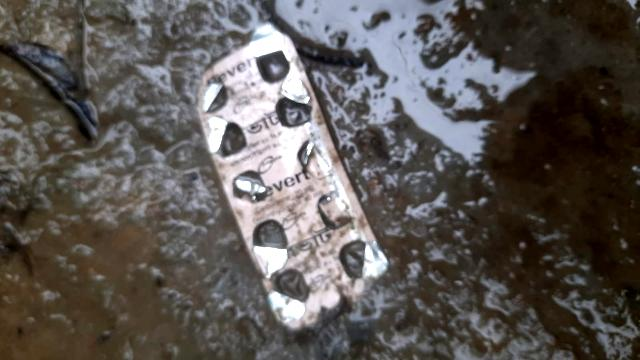medicine: (168, 20, 410, 352)
